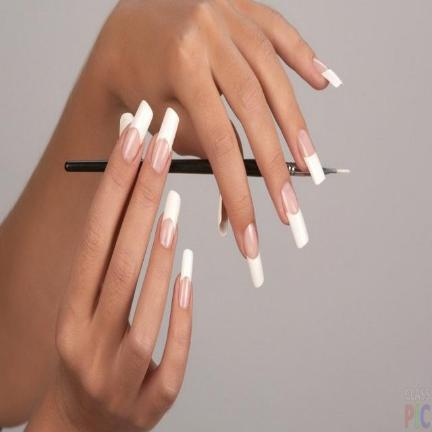Nail: (122, 100, 153, 162), (280, 183, 309, 249), (150, 108, 179, 173), (296, 129, 326, 185), (243, 224, 264, 288), (159, 190, 181, 249), (312, 58, 344, 88), (179, 249, 193, 310)
